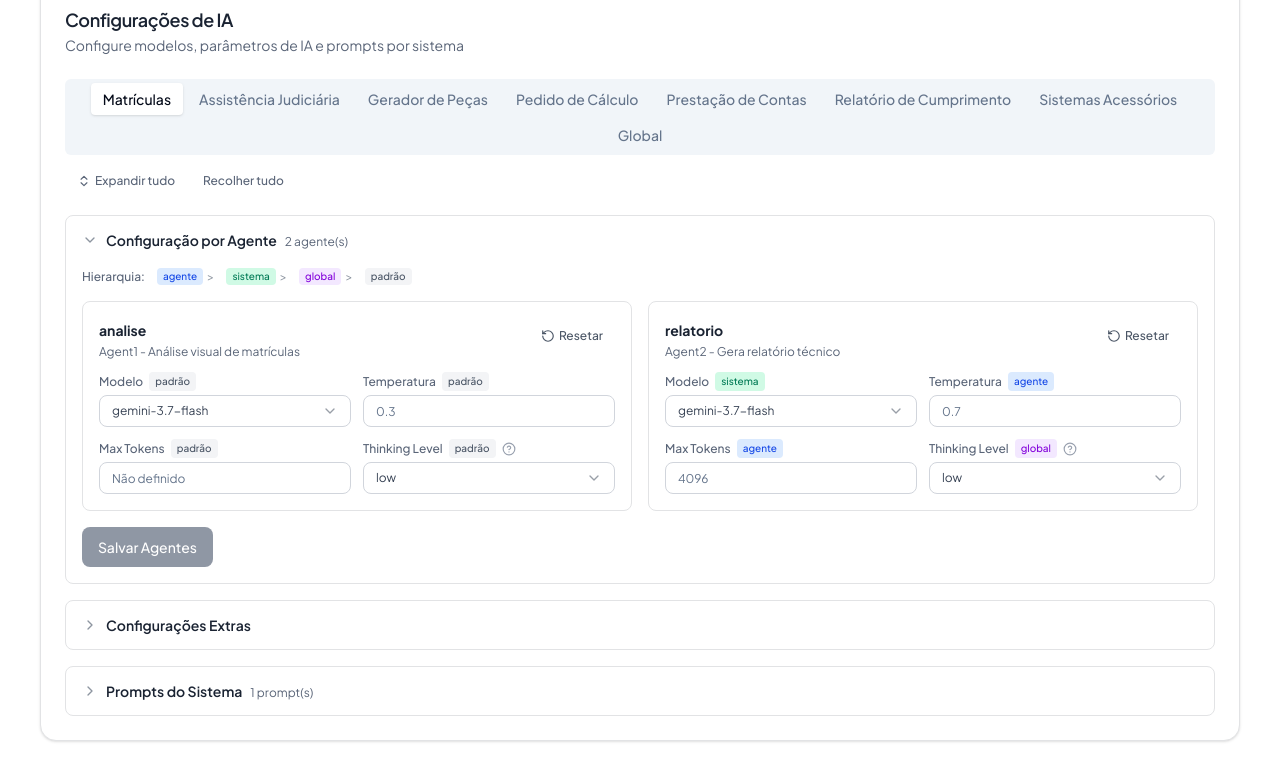
PromptsPage › deve abrir dialog de edição de prompt
(page scrolled)
// Expandir seção de prompts
What coordinates should you click on to do the following:
click the button "Prompts do Sistema1 prompt(s)"
I would click on:
 (174, 691)
Its box is x1=66 y1=667 x2=1214 y2=715.
(page scrolled)
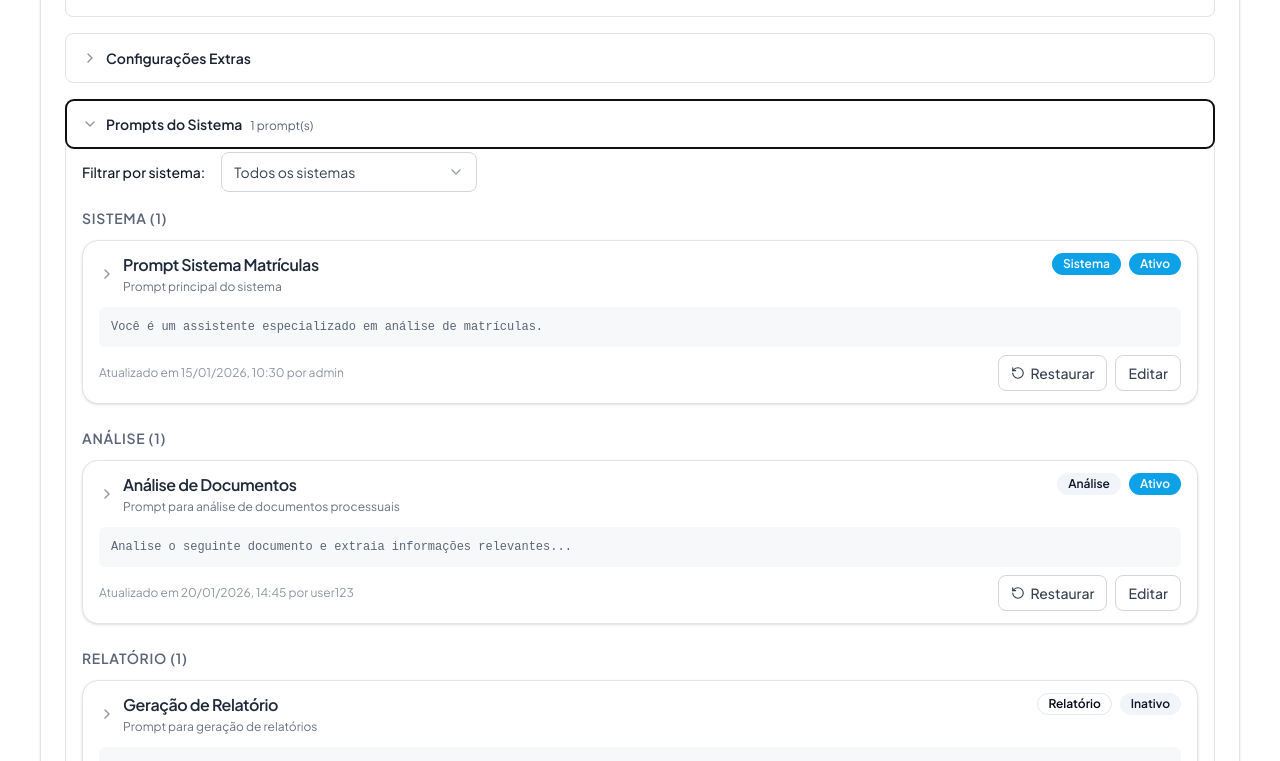
Result: the heading "Prompt Sistema Matrículas" is shown at x1=123 y1=253 x2=319 y2=277
// Clicar em Editar
What coordinates should you click on to do the following:
click the button "Editar" in the row of "por admin"
I would click on:
 (1148, 373)
Its box is x1=1115 y1=355 x2=1181 y2=391.
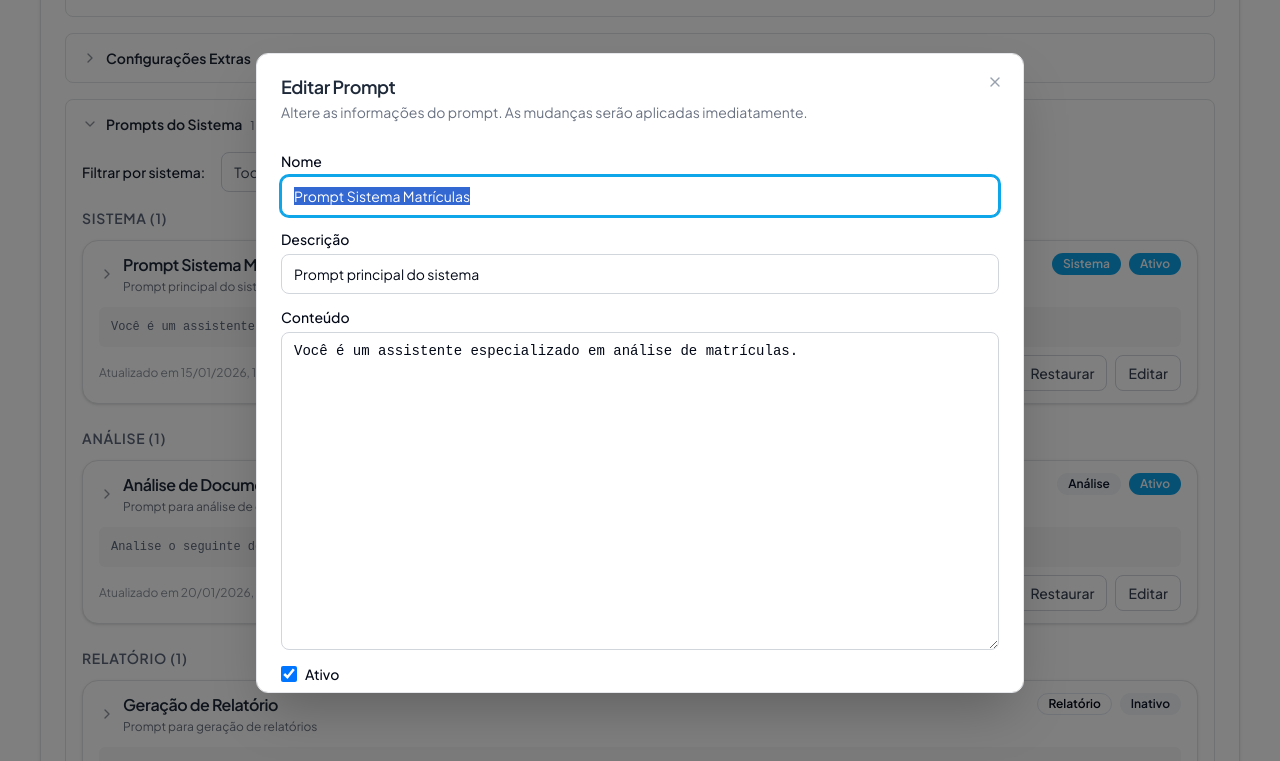
Result: the dialog is shown at x1=256 y1=53 x2=1024 y2=693
Result: the heading "Editar Prompt" is shown at x1=281 y1=75 x2=395 y2=98
Result: the field labelled "Nome" holds "Prompt Sistema Matrículas" at x1=281 y1=176 x2=999 y2=216
